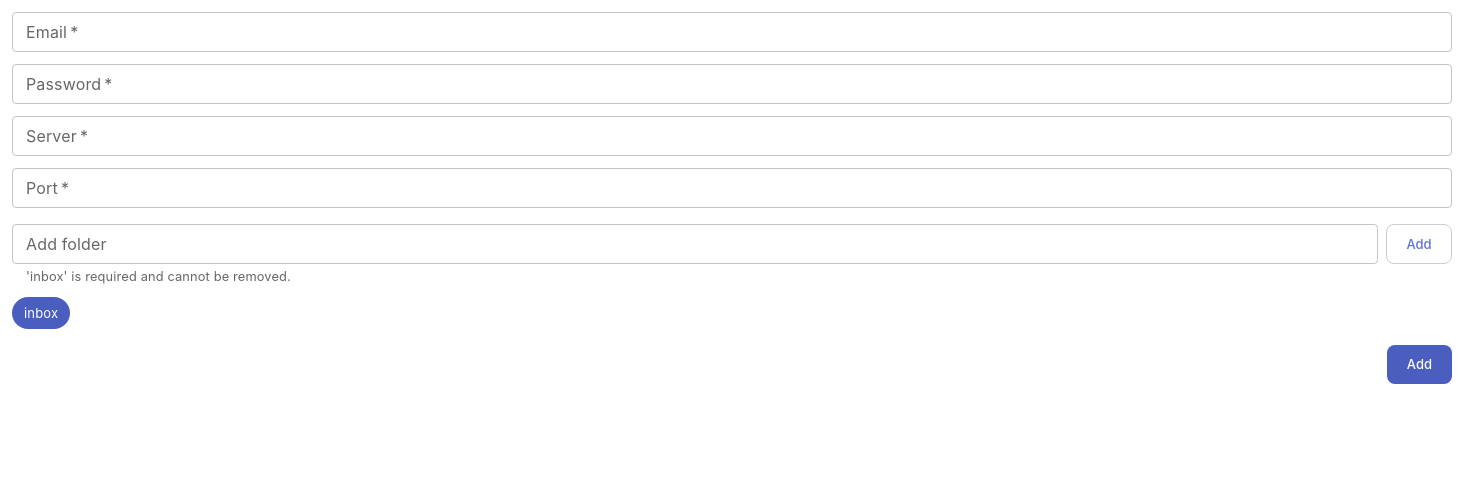
CreateImapForm › shows invalid email error for bad email format
This screenshot has width=1464, height=496.
In the field labelled "Email *": (732, 32) left=12, top=12, right=1452, bottom=52, type "not-an-email"
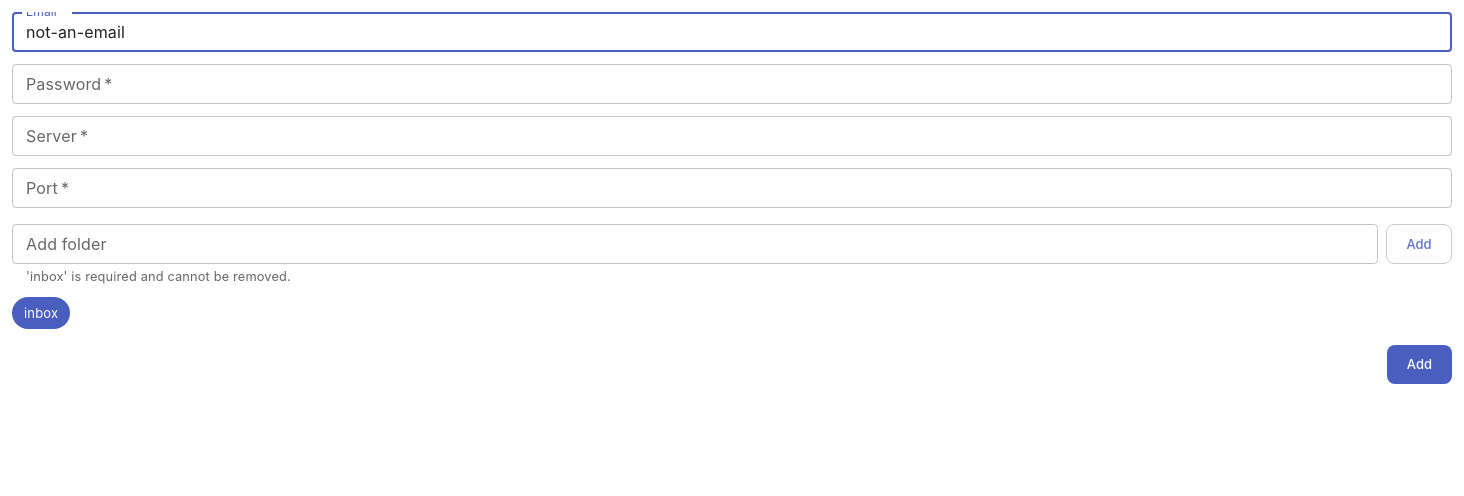
Click the 2nd button "Add": (1419, 365) left=1387, top=345, right=1452, bottom=384
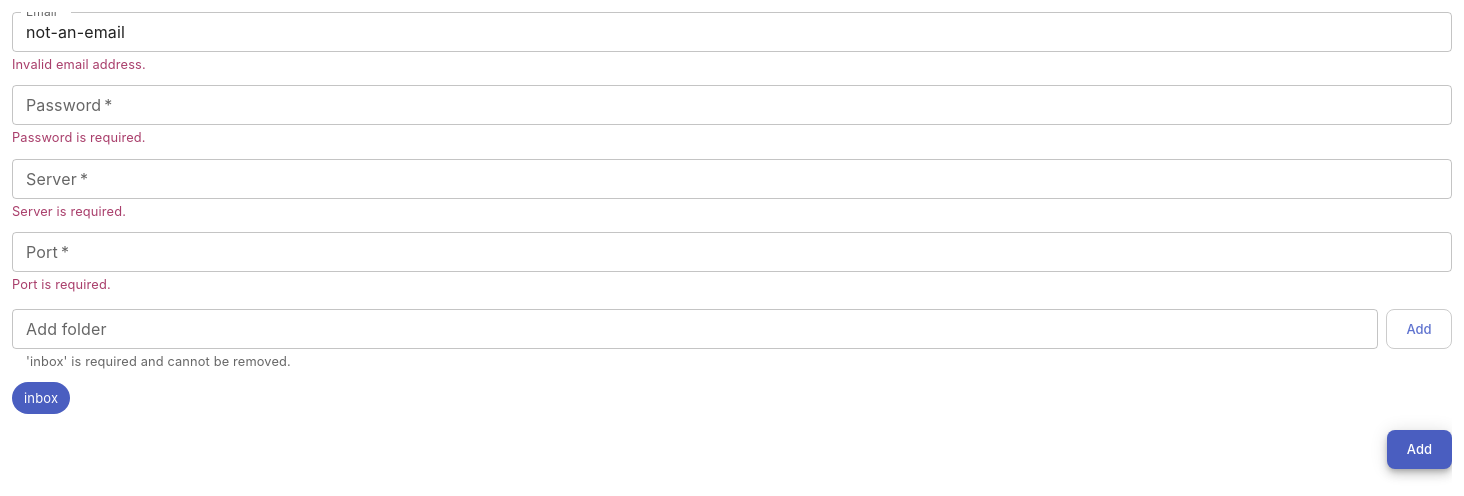
expect the text "Invalid email address." is shown: met, box left=12, top=57, right=146, bottom=72
